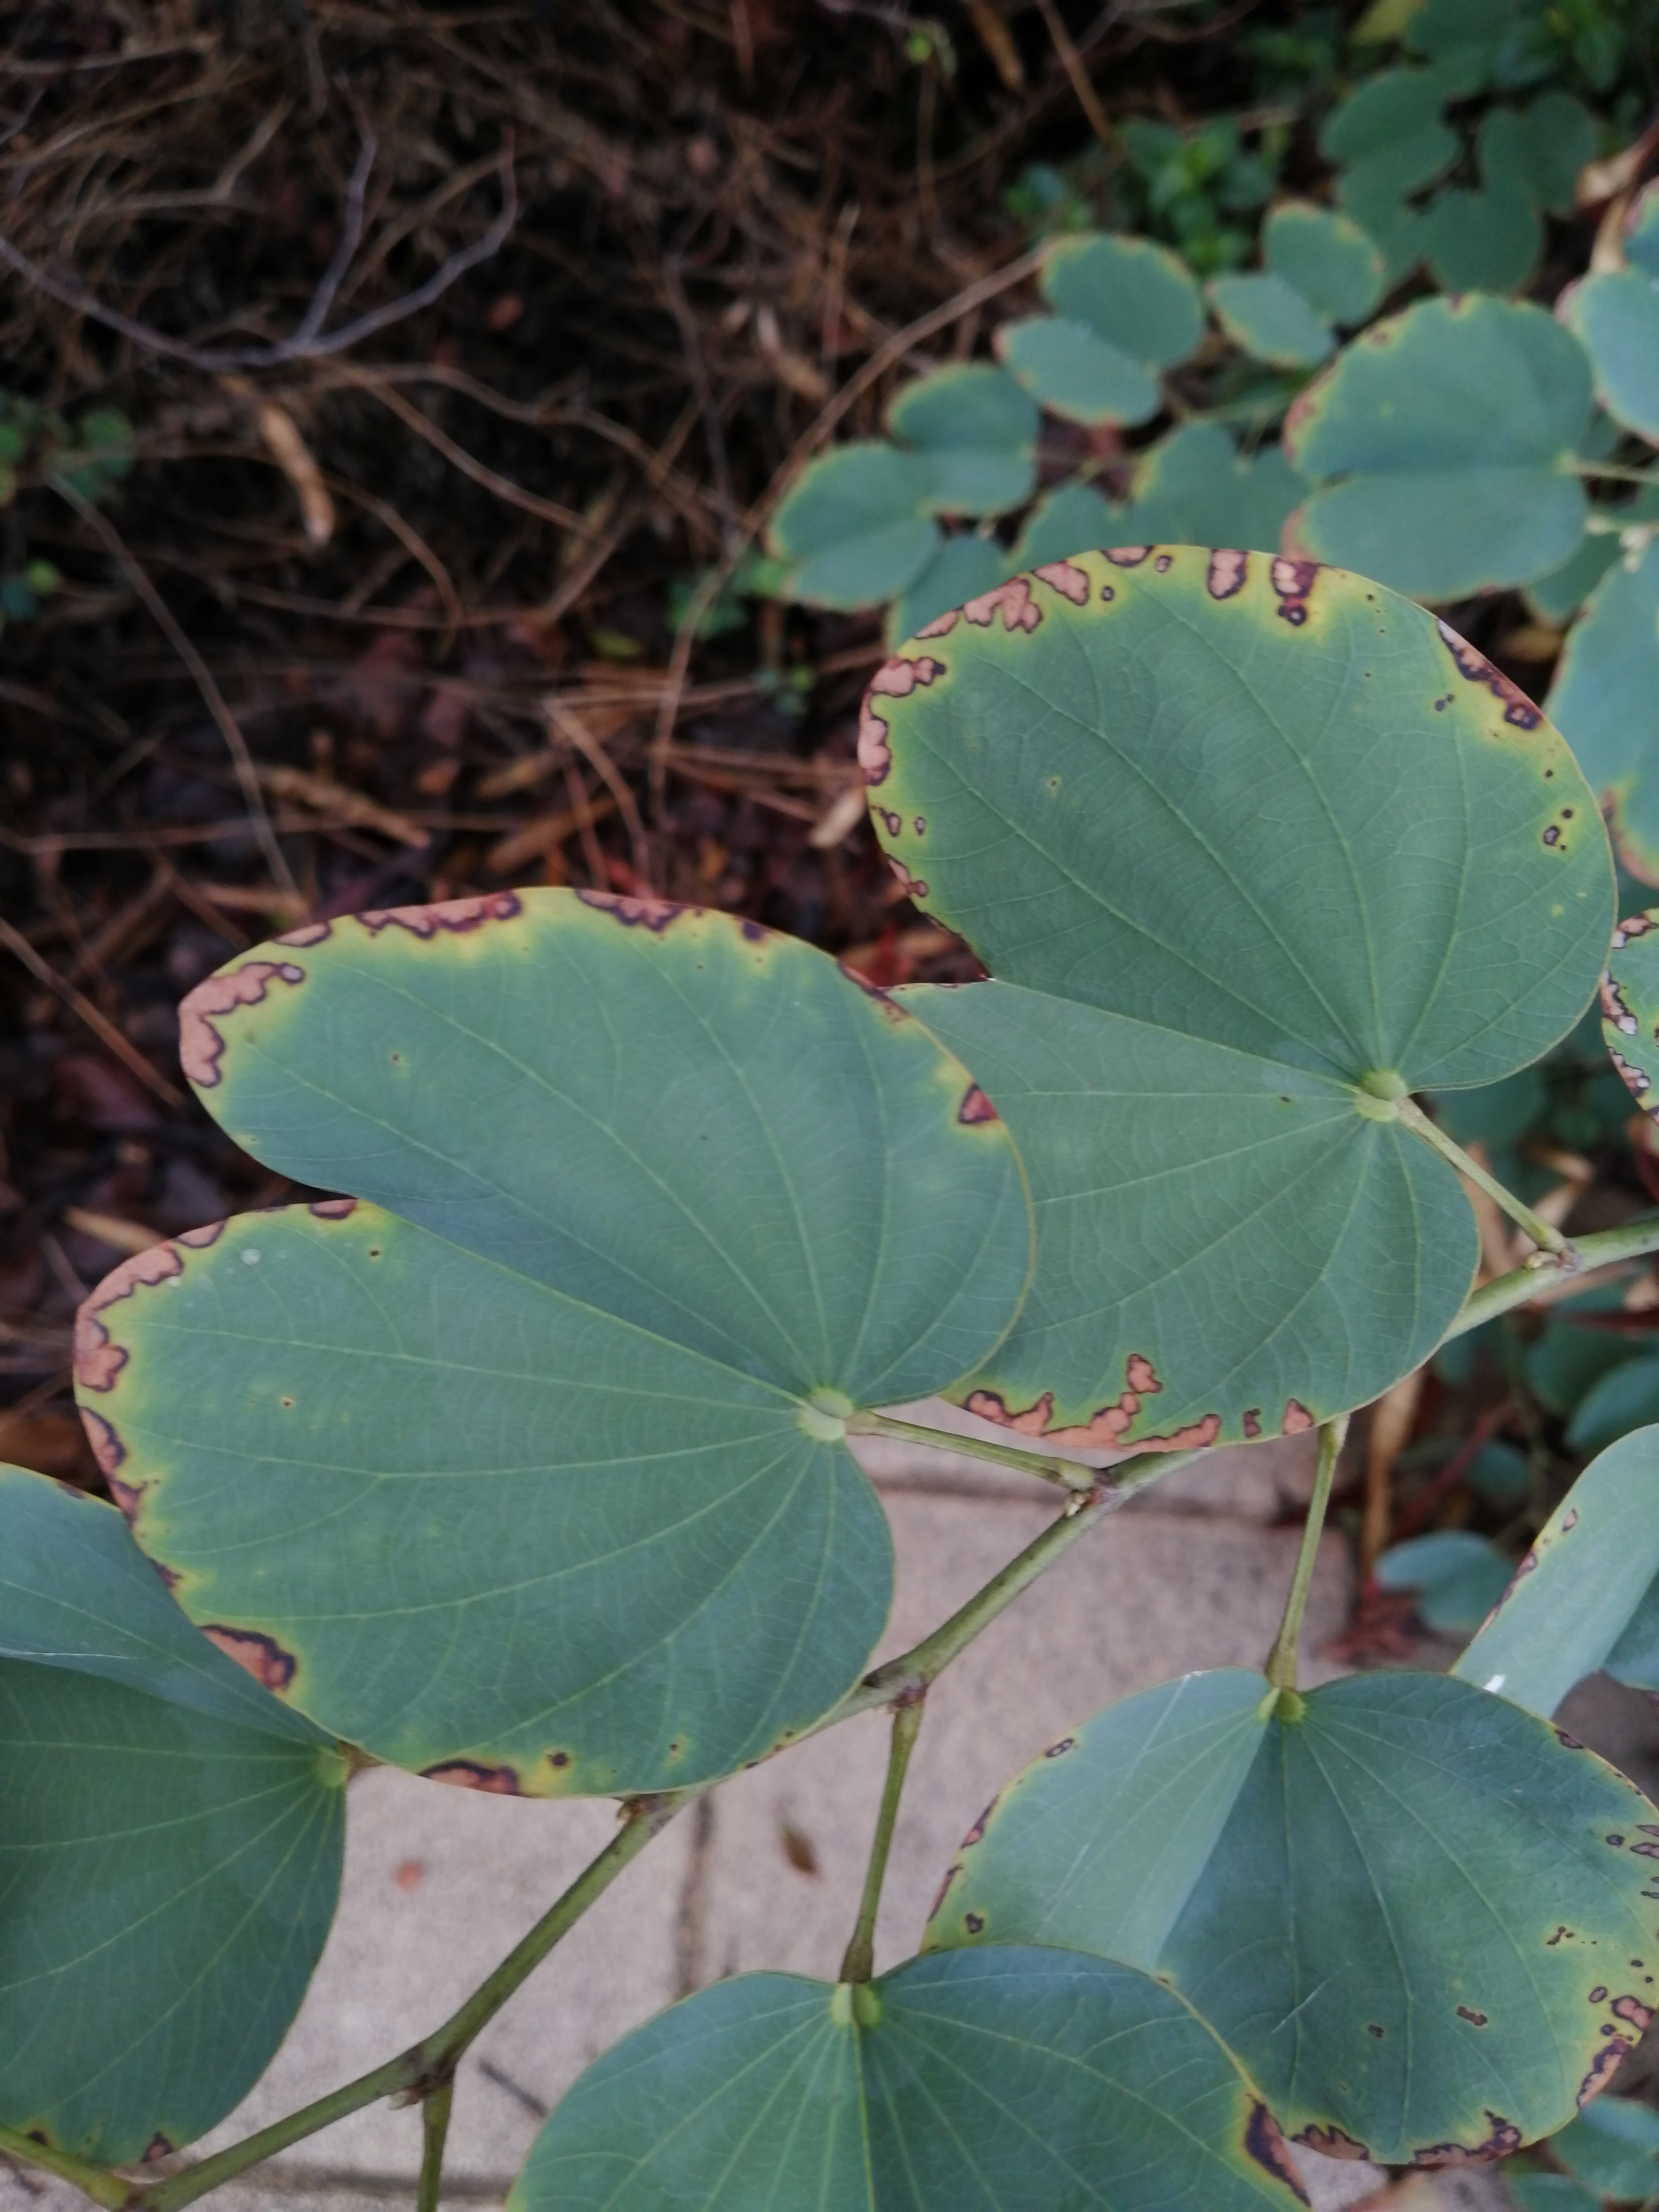nothealthy: (47, 874, 1033, 1820), (784, 529, 1607, 1482), (899, 1653, 1656, 2196)
